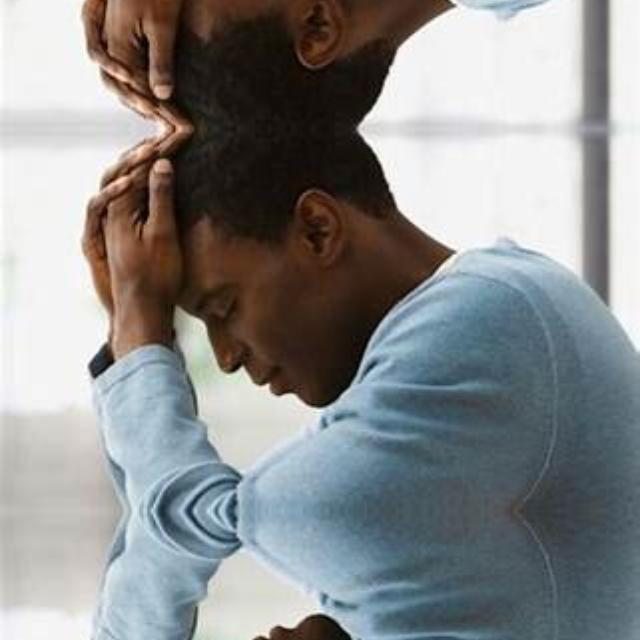person: (49, 129, 556, 511), (49, 511, 556, 640), (49, 0, 556, 127)
